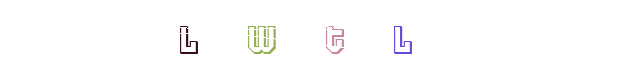L: (148, 0, 228, 80), (362, 0, 442, 80)
T: (280, 0, 360, 80)
W: (248, 0, 328, 80)
